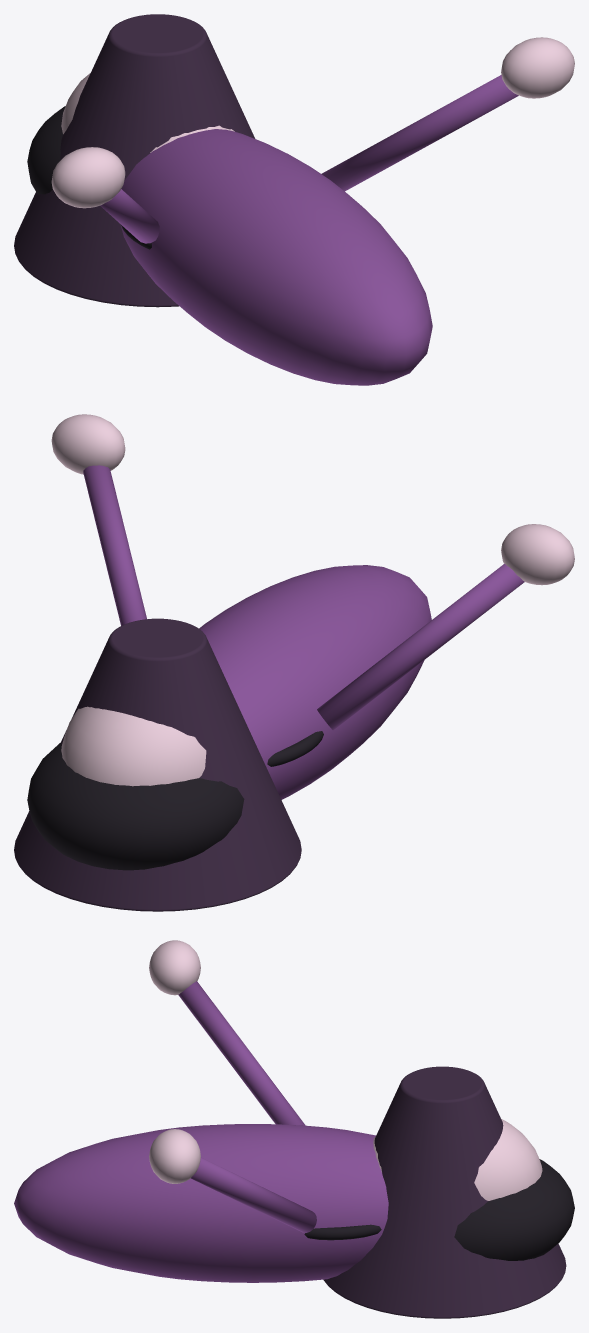
File: avatar-widow.glb
3 views of the same model, one above another, from view 1: azimuth 30°, elevation 25°; view 2: azimuth 150°, elevation 25°; view 3: azimuth 270°, elevation 25° (orthographic). The views are drawn at different scales.
Parts seen in each view (by area): view 1: widow_body, widow_veil, widow_right_arm, widow_right_hand, widow_left_hand, widow_hair, widow_left_arm, widow_head; view 2: widow_veil, widow_body, widow_hair, widow_head, widow_left_arm, widow_right_arm, widow_left_hand, widow_right_hand, widow_collar; view 3: widow_body, widow_veil, widow_hair, widow_left_arm, widow_head, widow_right_arm, widow_right_hand, widow_left_hand, widow_collar.
Boxes of the visible parts, left/top/right/bottom form: widow_body: left=120, top=129, right=432, bottom=385; widow_veil: left=14, top=14, right=255, bottom=307; widow_right_arm: left=321, top=75, right=518, bottom=191; widow_right_hand: left=501, top=37, right=574, bottom=98; widow_left_hand: left=51, top=147, right=125, bottom=208; widow_hair: left=27, top=106, right=65, bottom=194; widow_left_arm: left=100, top=189, right=159, bottom=243; widow_head: left=61, top=73, right=234, bottom=152; widow_veil: left=14, top=618, right=301, bottom=911; widow_body: left=199, top=565, right=431, bottom=799; widow_hair: left=27, top=743, right=244, bottom=870; widow_head: left=61, top=706, right=206, bottom=786; widow_left_arm: left=317, top=564, right=524, bottom=730; widow_right_arm: left=83, top=465, right=146, bottom=625; widow_left_hand: left=501, top=524, right=574, bottom=585; widow_right_hand: left=51, top=414, right=125, bottom=474; widow_collar: left=267, top=731, right=323, bottom=766; widow_body: left=14, top=1124, right=388, bottom=1282; widow_veil: left=323, top=1066, right=566, bottom=1318; widow_hair: left=454, top=1159, right=574, bottom=1260; widow_left_arm: left=178, top=981, right=305, bottom=1125; widow_head: left=373, top=1119, right=542, bottom=1200; widow_right_arm: left=191, top=1157, right=316, bottom=1232; widow_right_hand: left=149, top=1129, right=200, bottom=1183; widow_left_hand: left=149, top=940, right=200, bottom=995; widow_collar: left=304, top=1224, right=381, bottom=1240.
Size of the model in its own units: 1.98 by 1 by 2.16.
